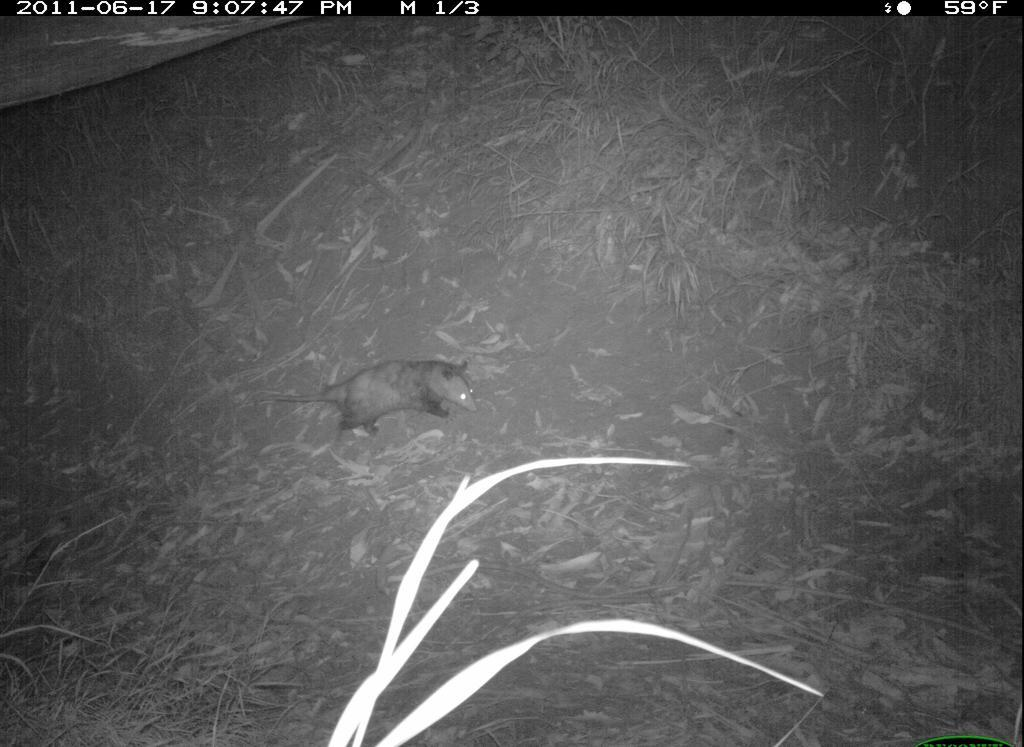opossum: (237, 349, 487, 447)
